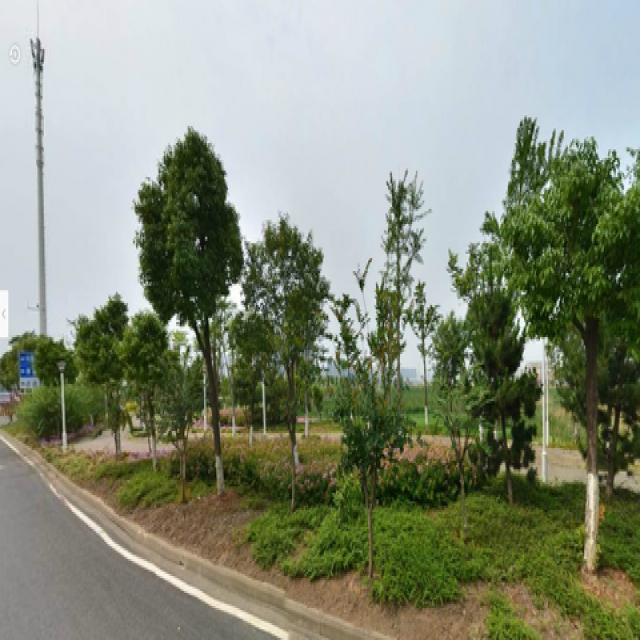gink: (158, 141, 238, 495)
